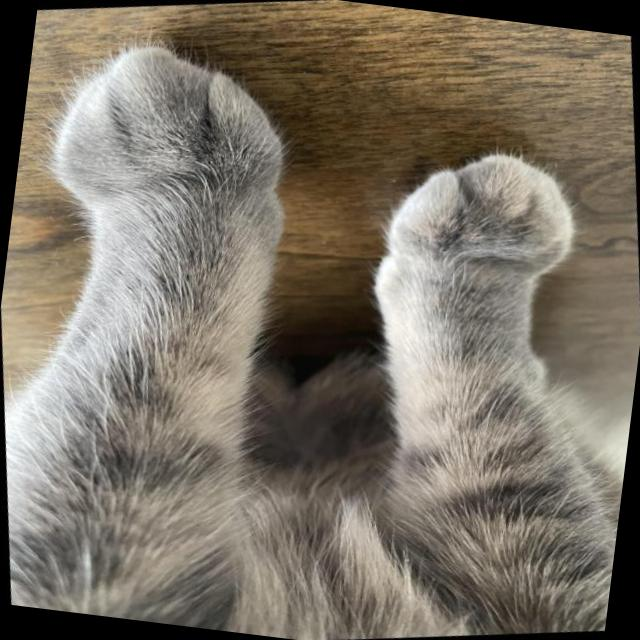Healthy skin: (2, 394, 210, 626), (247, 499, 577, 640), (89, 211, 258, 400), (214, 394, 388, 536), (422, 352, 544, 526), (400, 192, 528, 348), (112, 84, 244, 185)
